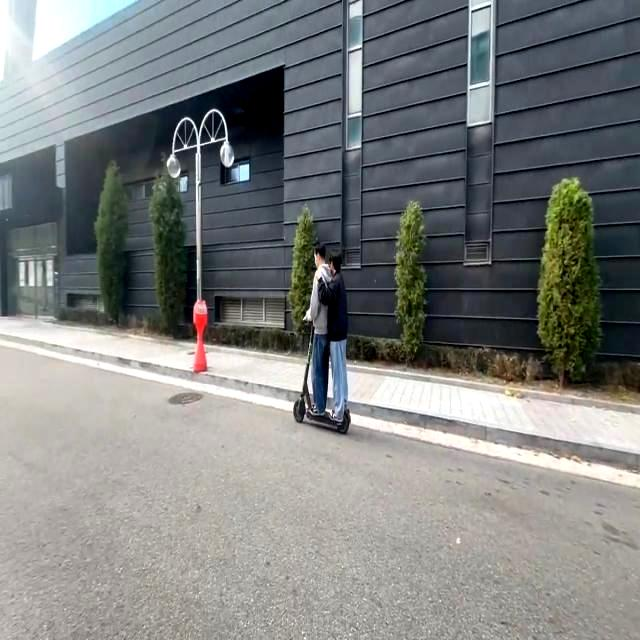bare_head: (326, 247, 343, 275), (308, 242, 326, 266)
human: (322, 247, 351, 423), (301, 241, 329, 419)
kickboard: (289, 394, 353, 436)
